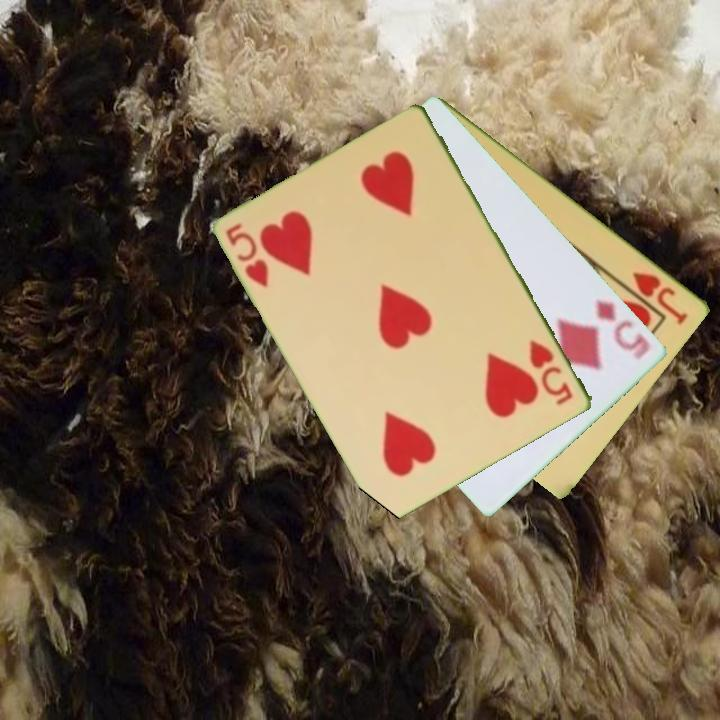5d: (592, 295, 654, 363)
5h: (526, 336, 577, 409), (223, 219, 273, 291)
Jh: (629, 268, 692, 328)
